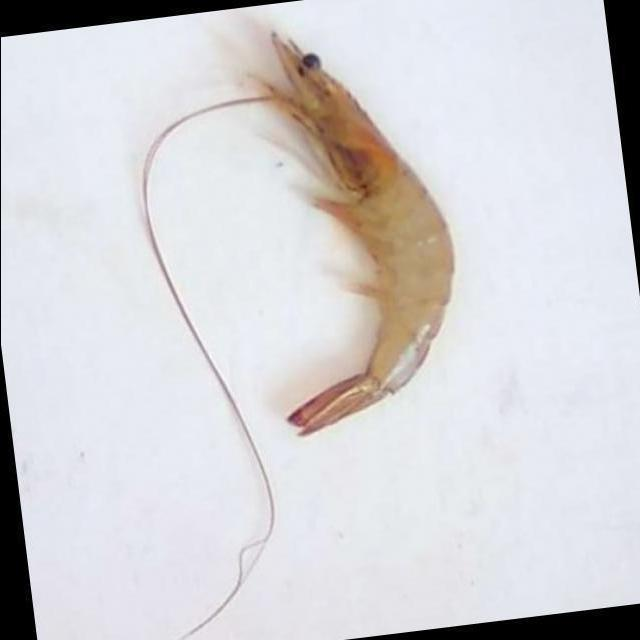shrimp: (269, 31, 454, 435)
